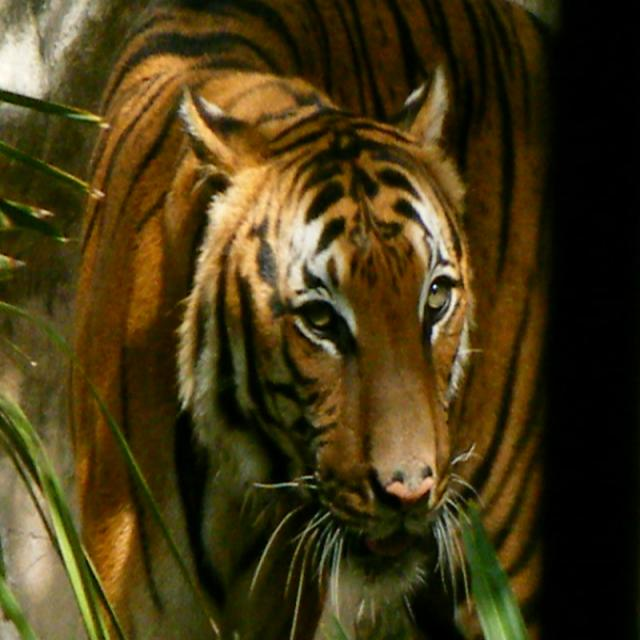Tiger: (66, 0, 552, 635)
